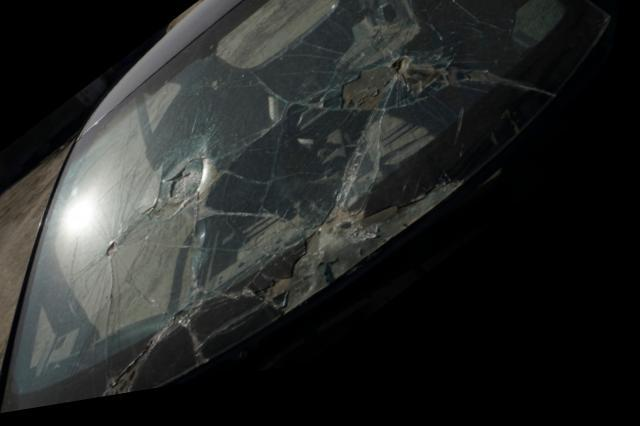glass shatter: (16, 0, 616, 416)
